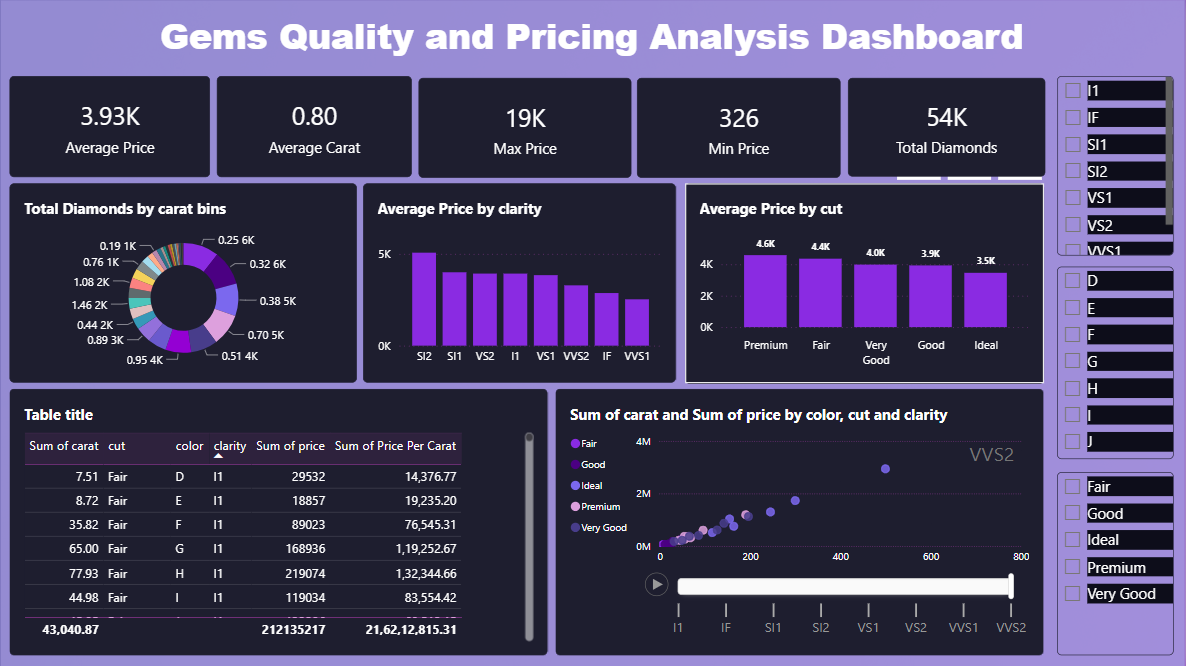

Layout of this report page (visuals, bound fields, positions):
{"tool":"powerbi","page":{"name":"Page 1","canvas":[1280,720],"ordinal":0},"visuals":[{"type":"card","fields":{"Values":["diamonds.Average Carat"]},"box":[233.8,82.3,210.8,109.2],"z":0},{"type":"card","fields":{"Values":["diamonds.Average Price"]},"box":[10,81.5,216.9,109.2],"z":1000},{"type":"scatterChart","fields":{"X":["Sum(diamonds.carat)"],"Y":["Sum(diamonds.price)"],"Category":["diamonds.color"],"Series":["diamonds.cut"],"Play":["diamonds.clarity"]},"box":[600,420.7,527.1,287.9],"z":2000},{"type":"clusteredColumnChart","fields":{"Category":["diamonds.cut"],"Y":["diamonds.Average Price"]},"box":[739.1,197.3,388.2,216.4],"z":3000},{"type":"columnChart","fields":{"Category":["diamonds.clarity"],"Y":["diamonds.Average Price"]},"box":[392.3,197.7,337.7,215.4],"z":4000},{"type":"donutChart","fields":{"Category":["diamonds.carat bins"],"Y":["diamonds.Total Diamonds"]},"box":[10,198,375,215],"z":5000},{"type":"tableEx","fields":{"Values":["Sum(diamonds.carat)","diamonds.cut","diamonds.color","diamonds.clarity","Sum(diamonds.price)","Sum(diamonds.Price Per Carat)"]},"box":[10,420.7,581.4,287.9],"z":6000},{"type":"textbox","box":[10,11,1258,63],"z":7000},{"type":"slicer","fields":{"Values":["diamonds.cut"]},"box":[1142,510,126,198],"z":8000},{"type":"slicer","fields":{"Values":["diamonds.color"]},"box":[1142,288,126,208],"z":9000},{"type":"slicer","fields":{"Values":["diamonds.clarity"]},"box":[1142,82,126,194],"z":10000},{"type":"card","fields":{"Values":["diamonds.Max Price"]},"box":[452.3,83.8,230,107.7],"z":11000},{"type":"card","fields":{"Values":["diamonds.Min Price"]},"box":[688.5,83.8,220,107.7],"z":12000},{"type":"card","fields":{"Values":["diamonds.Total Diamonds"]},"box":[915.4,83.8,213.1,106.9],"z":13000}]}

Visuals, with their boxes in screenshot pixels (x1, y1, x2, y2), scaled from the page's 1280x720 canvas onto the 1186x666 screenshot:
card - diamonds.Average Carat: bbox=[217, 76, 412, 177]
card - diamonds.Average Price: bbox=[9, 75, 210, 176]
scatterChart - Sum(diamonds.carat) x Sum(diamonds.price): bbox=[556, 389, 1044, 655]
clusteredColumnChart - diamonds.cut x diamonds.Average Price: bbox=[685, 183, 1045, 383]
columnChart - diamonds.clarity x diamonds.Average Price: bbox=[363, 183, 676, 382]
donutChart - diamonds.carat bins x diamonds.Total Diamonds: bbox=[9, 183, 357, 382]
tableEx - Sum(diamonds.carat) x diamonds.cut: bbox=[9, 389, 548, 655]
textbox: bbox=[9, 10, 1175, 68]
slicer - diamonds.cut: bbox=[1058, 472, 1175, 655]
slicer - diamonds.color: bbox=[1058, 266, 1175, 459]
slicer - diamonds.clarity: bbox=[1058, 76, 1175, 255]
card - diamonds.Max Price: bbox=[419, 78, 632, 177]
card - diamonds.Min Price: bbox=[638, 78, 842, 177]
card - diamonds.Total Diamonds: bbox=[848, 78, 1046, 176]
